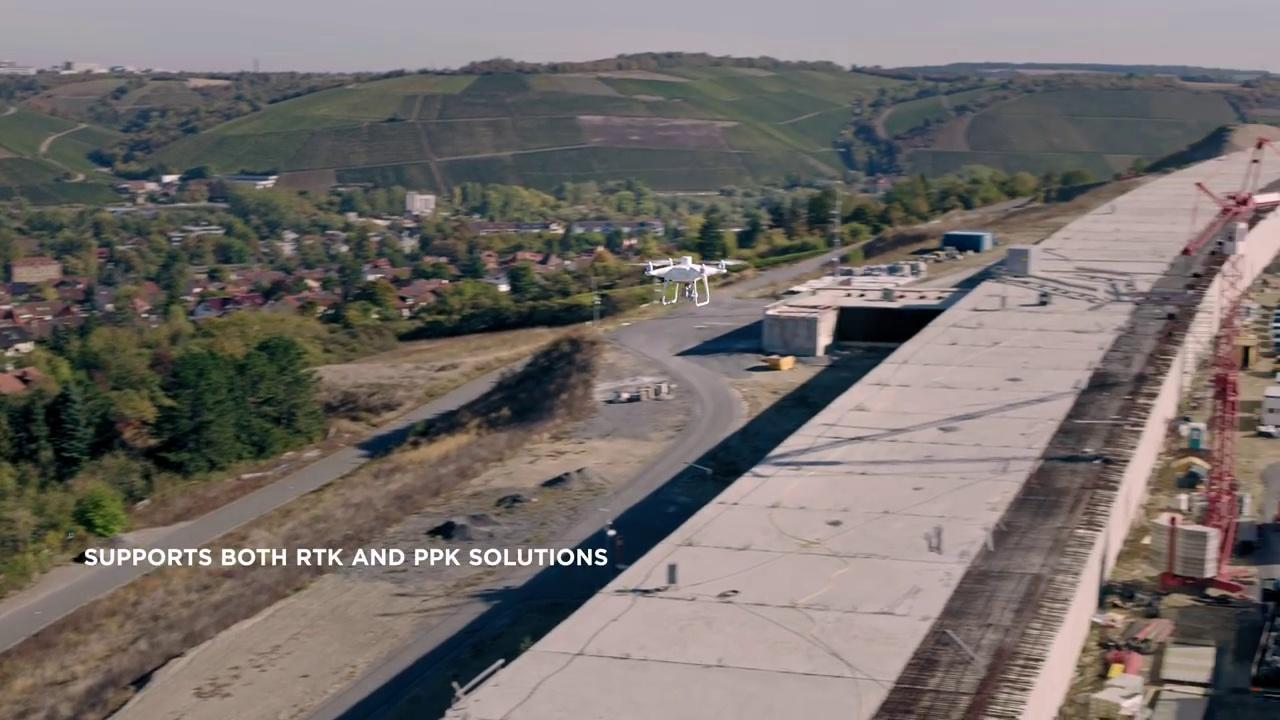drone: (624, 250, 753, 305)
